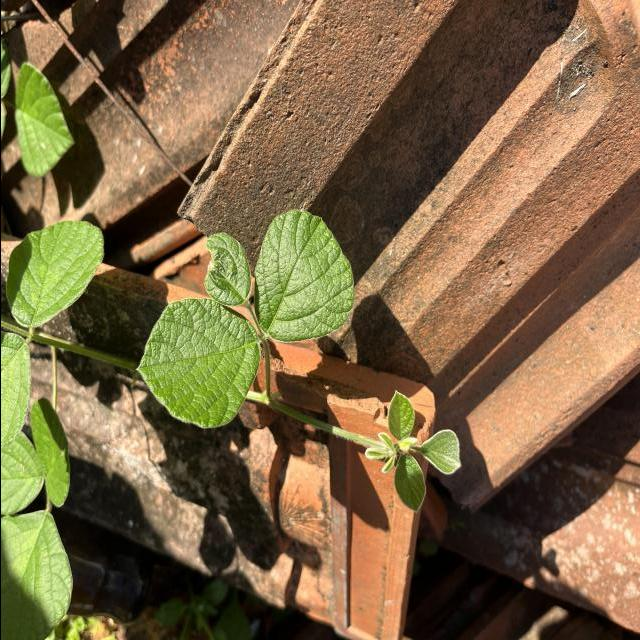Pseudarthria viscida: (134, 207, 356, 432)
